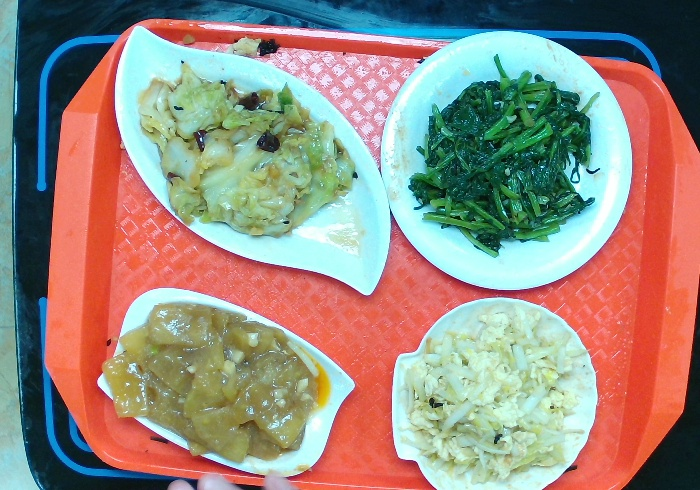RJxy-Bei_Ke_Wan: (387, 294, 603, 490)
RJxy-Jian_Jiao_Fang_Die: (92, 285, 359, 482)
RJxy-Jian_Jiao_Pan: (110, 20, 395, 302)
RJxy-Yuan_Pan: (373, 27, 636, 296)
